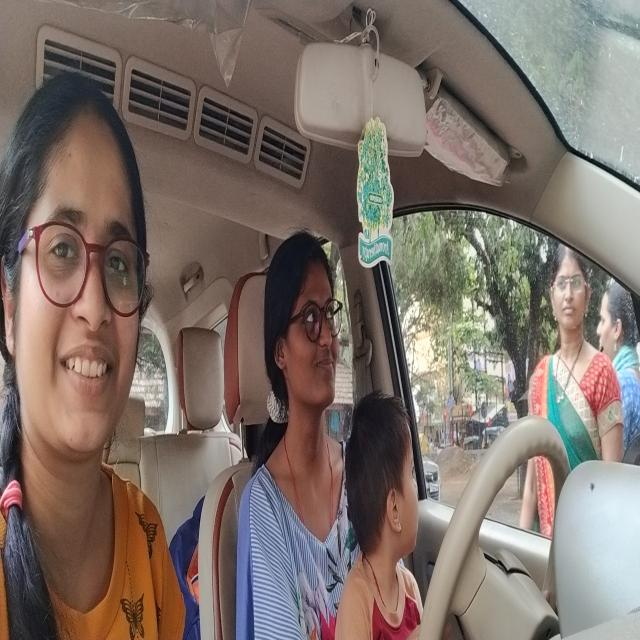child: (342, 372, 425, 567)
person: (0, 60, 157, 508), (261, 223, 345, 431)
